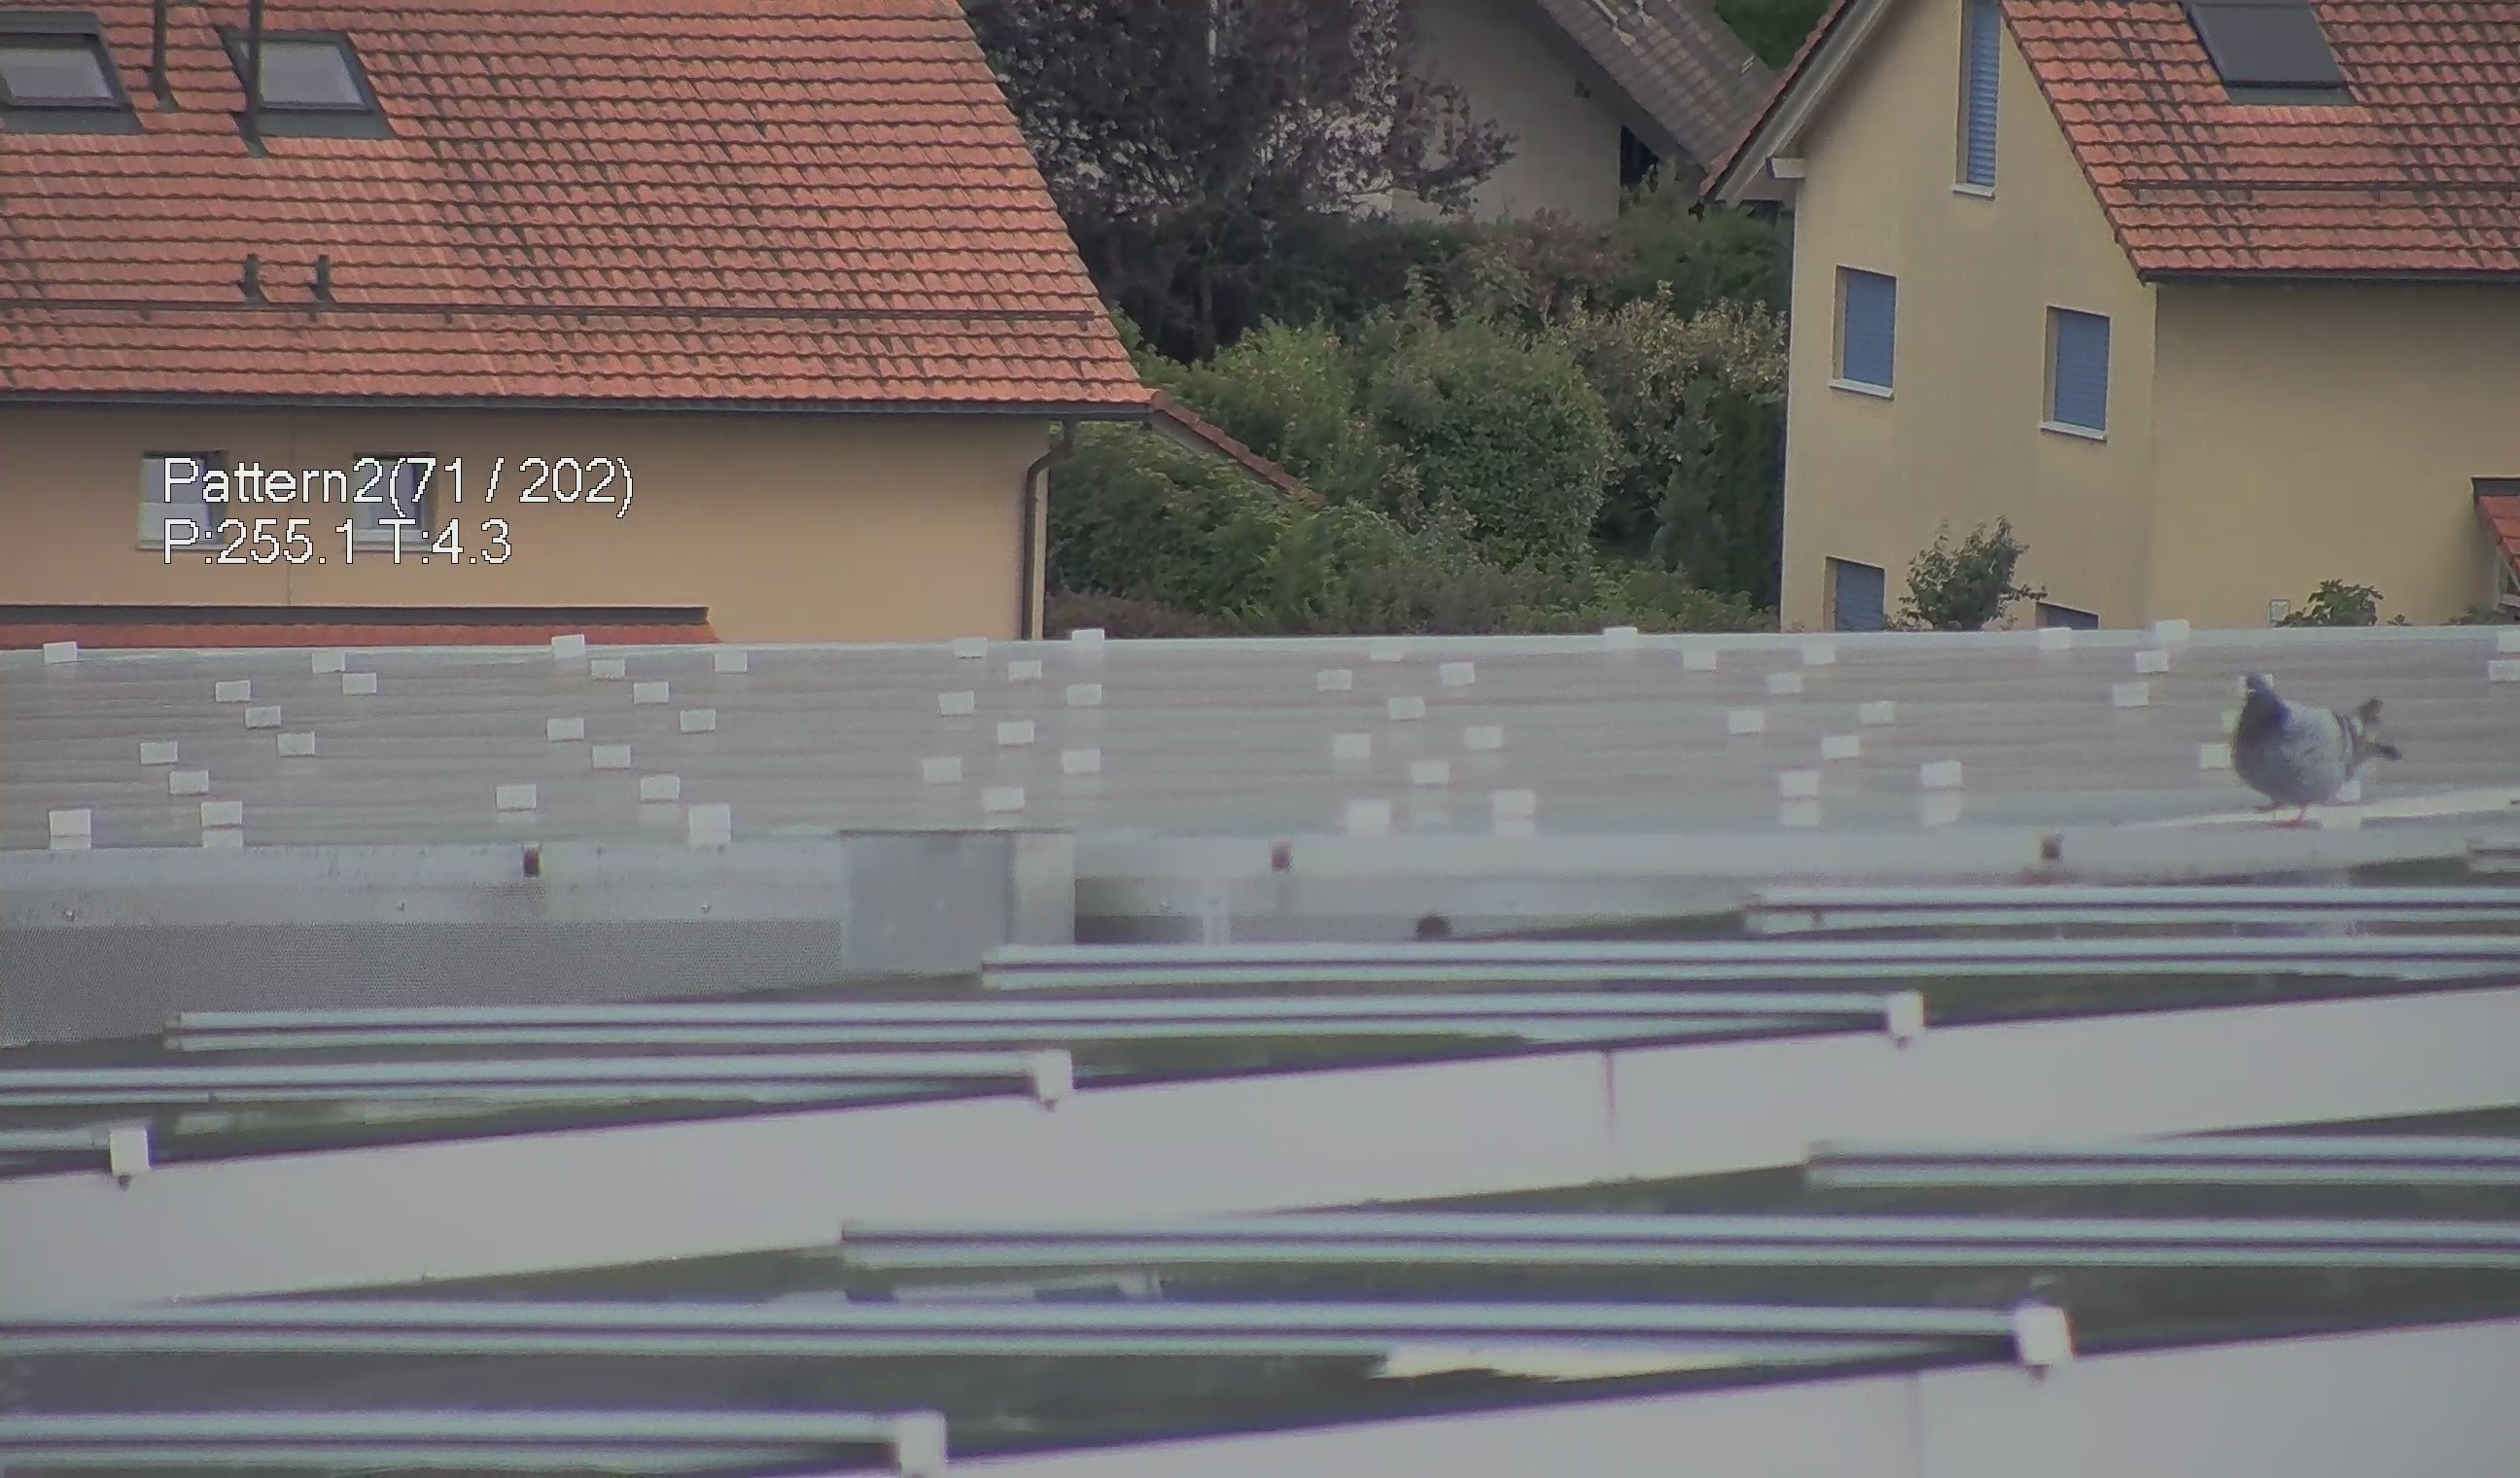Pigeon: (2225, 651, 2400, 829)
